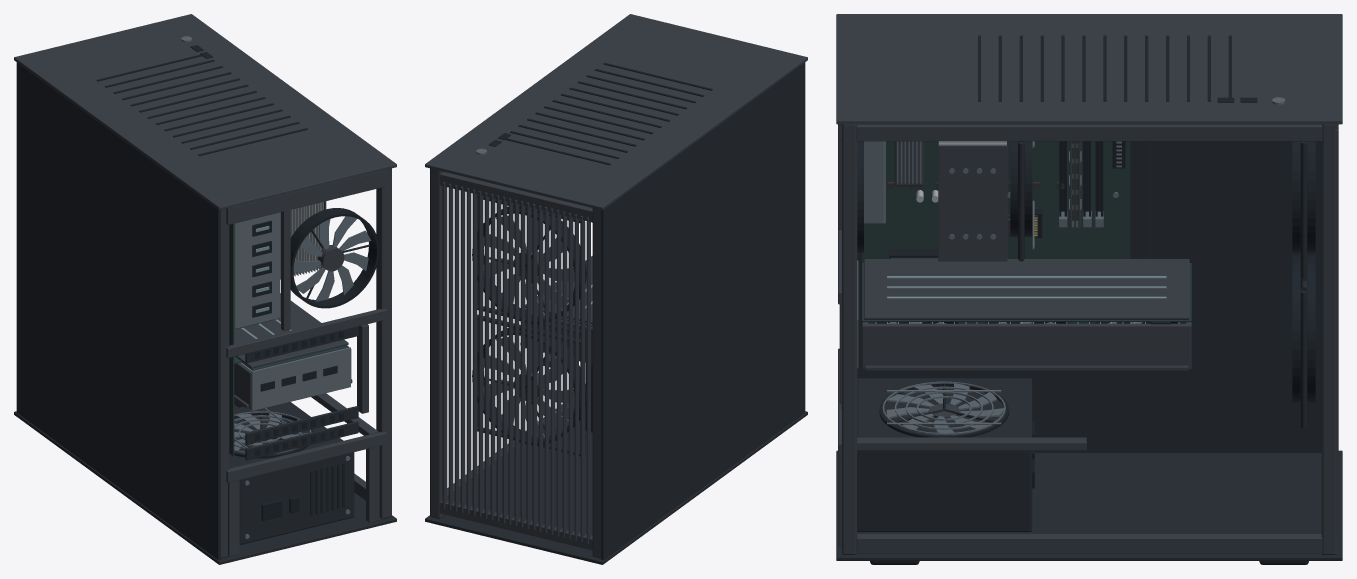
The model's file is pc-assembly.glb.
The picture shows the model from 3 angles, left to right: view 1: azimuth 30°, elevation 25°; view 2: azimuth 150°, elevation 25°; view 3: azimuth 270°, elevation 25°; orthographic projection. The views are drawn at different scales.
Visible parts, largest first — view 1: PC_Case_Paint_Charcoal, PC_Case_Paint_Graphite, PSU_Paint_Charcoal, PC_Case_Plastic_Black, Motherboard_Metal_Dark_Steel, GPU_Metal_Dark_Steel, GPU_Paint_Graphite, Case_RearFan_Rotor.001, PSU_Plastic_Black, Motherboard_PCB_Deep_Slate, Cooler_Metal_Aluminum, Motherboard_Plastic_Black (+3 smaller); view 2: PC_Case_Paint_Graphite, PC_Case_Paint_Charcoal, PC_Case_Plastic_Black, Case_IntakeFan_01_Rotor.001, Case_IntakeFan_02_Rotor.001, GPU_Paint_Graphite; view 3: PC_Case_Paint_Graphite, PC_Case_Paint_Charcoal, GPU_Paint_Graphite, PSU_Paint_Charcoal, Motherboard_PCB_Deep_Slate, PC_Case_Plastic_Black, Cooler_Paint_Graphite, Motherboard_Metal_Dark_Steel, Motherboard_Plastic_Black, PSU_Metal_Dark_Steel, GPU_Accent_Slate, PSU_Fan_Rotor.001 (+5 smaller).
Part boxes in pixels (bbox=[...]): PC_Case_Paint_Charcoal: bbox=[14, 62, 396, 564]; PC_Case_Paint_Graphite: bbox=[14, 14, 396, 558]; PSU_Paint_Charcoal: bbox=[229, 402, 354, 544]; PC_Case_Plastic_Black: bbox=[96, 45, 379, 456]; Motherboard_Metal_Dark_Steel: bbox=[234, 212, 280, 329]; GPU_Metal_Dark_Steel: bbox=[251, 347, 350, 410]; GPU_Paint_Graphite: bbox=[234, 293, 352, 408]; Case_RearFan_Rotor.001: bbox=[293, 216, 371, 301]; PSU_Plastic_Black: bbox=[229, 413, 344, 520]; Motherboard_PCB_Deep_Slate: bbox=[229, 223, 234, 456]; Cooler_Metal_Aluminum: bbox=[280, 201, 323, 279]; Motherboard_Plastic_Black: bbox=[252, 220, 271, 317]; PC_Case_Paint_Graphite: bbox=[425, 14, 807, 558]; PC_Case_Paint_Charcoal: bbox=[425, 62, 807, 564]; PC_Case_Plastic_Black: bbox=[472, 62, 712, 445]; Case_IntakeFan_01_Rotor.001: bbox=[483, 337, 574, 438]; Case_IntakeFan_02_Rotor.001: bbox=[483, 215, 574, 317]; GPU_Paint_Graphite: bbox=[520, 256, 592, 364]; PC_Case_Paint_Graphite: bbox=[836, 14, 1342, 554]; PC_Case_Paint_Charcoal: bbox=[836, 141, 1342, 560]; GPU_Paint_Graphite: bbox=[861, 259, 1191, 370]; PSU_Paint_Charcoal: bbox=[857, 378, 1032, 531]; Motherboard_PCB_Deep_Slate: bbox=[861, 141, 1130, 323]; PC_Case_Plastic_Black: bbox=[841, 35, 1315, 564]; Cooler_Paint_Graphite: bbox=[938, 145, 1007, 261]; Motherboard_Metal_Dark_Steel: bbox=[864, 141, 1121, 227]; Motherboard_Plastic_Black: bbox=[889, 141, 1125, 323]; PSU_Metal_Dark_Steel: bbox=[882, 381, 1005, 434]; GPU_Accent_Slate: bbox=[887, 276, 1166, 298]; PSU_Fan_Rotor.001: bbox=[886, 383, 1004, 435].
Bounding box in the file's own units: 0.23 × 0.458 × 0.46.
